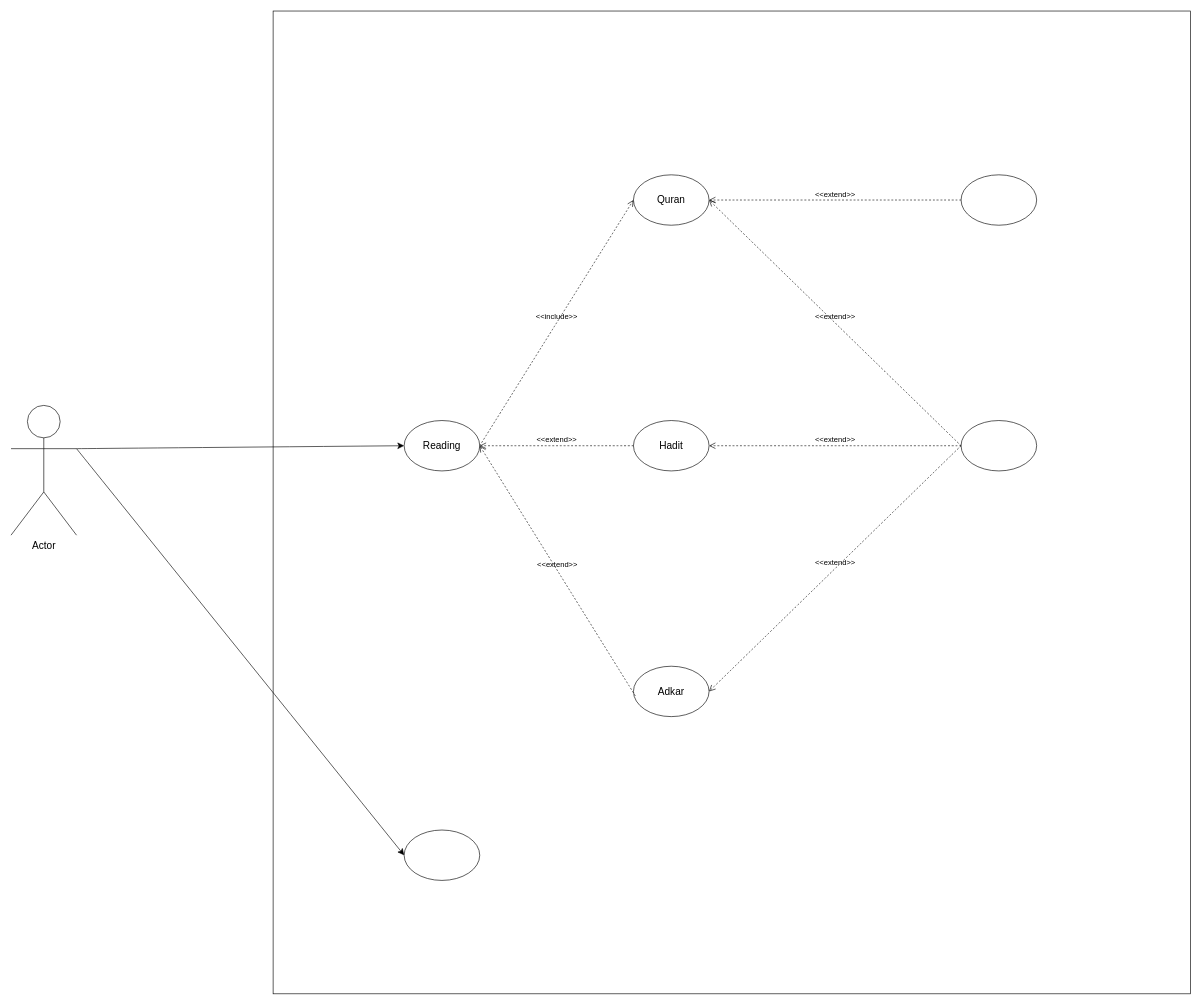
The diagram is 1201 pixels wide and 1005 high, and some of its shapes have lost their labels. Each missing label, with the centre of its shape:
"Listening" belongs at pixel 998 199.
"Navigate Qibla" belongs at pixel 442 854.
"Search" belongs at pixel 998 445.
